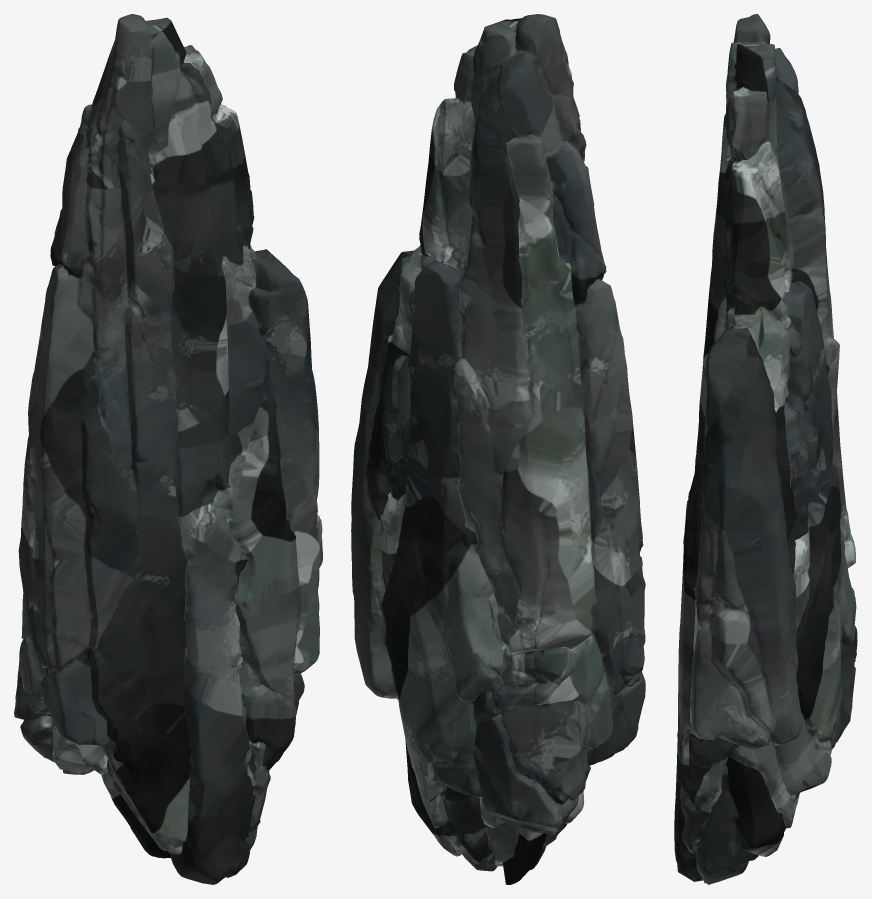
File: split_cliff_02.FBX
3 views of the same model, side by side, from view 1: azimuth 30°, elevation 25°; view 2: azimuth 150°, elevation 25°; view 3: azimuth 270°, elevation 25° (orthographic). The views are drawn at different scales.
Parts seen in each view (by area): view 1: split_cliff_02; view 2: split_cliff_02; view 3: split_cliff_02.
Boxes of the visible parts, bbox=[...] form: split_cliff_02: bbox=[14, 14, 322, 884]; split_cliff_02: bbox=[351, 14, 645, 884]; split_cliff_02: bbox=[674, 14, 857, 884].
Size of the model in its own units: 396 by 238 by 1198.
